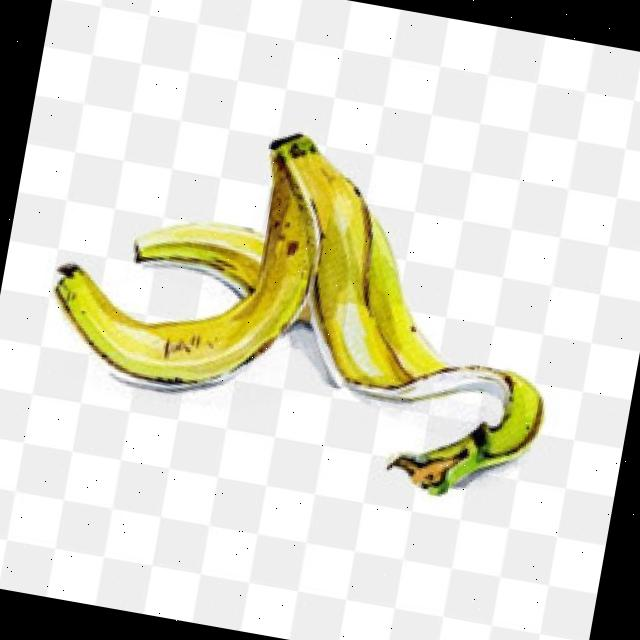banana-peel: (28, 93, 584, 512), (381, 349, 550, 512)
